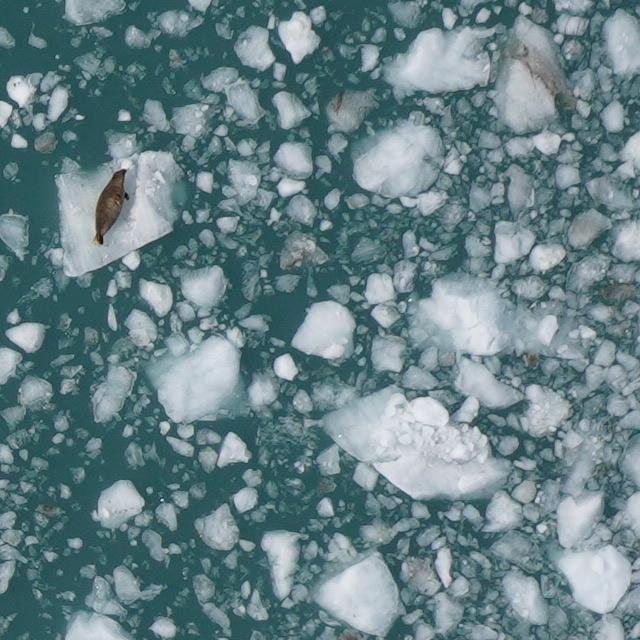seal: (91, 167, 128, 246)
